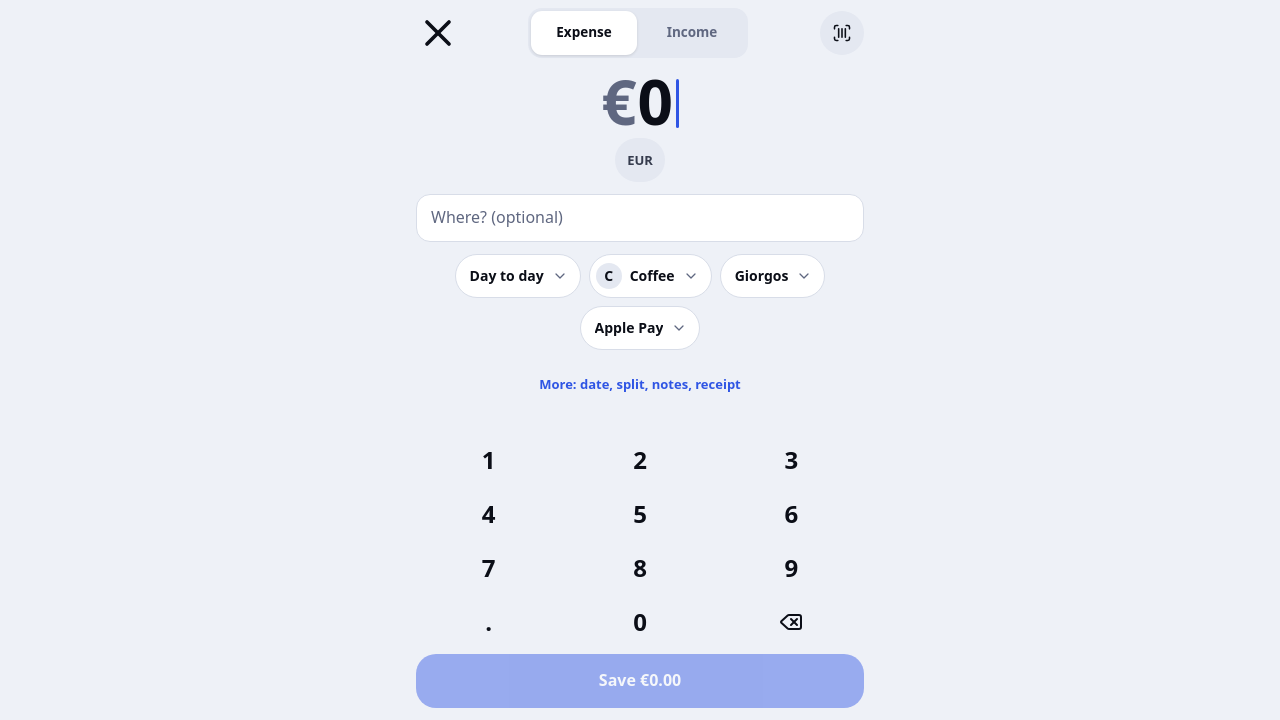
Test: one Scan button opens a sheet with Receipt QR and Pantry barcode; the old chips are gone
This screenshot has width=1280, height=720.
Expected: the button "Scan receipt" is not shown
Click the button named "Scan" at (842, 33), box [820,11,864,55]
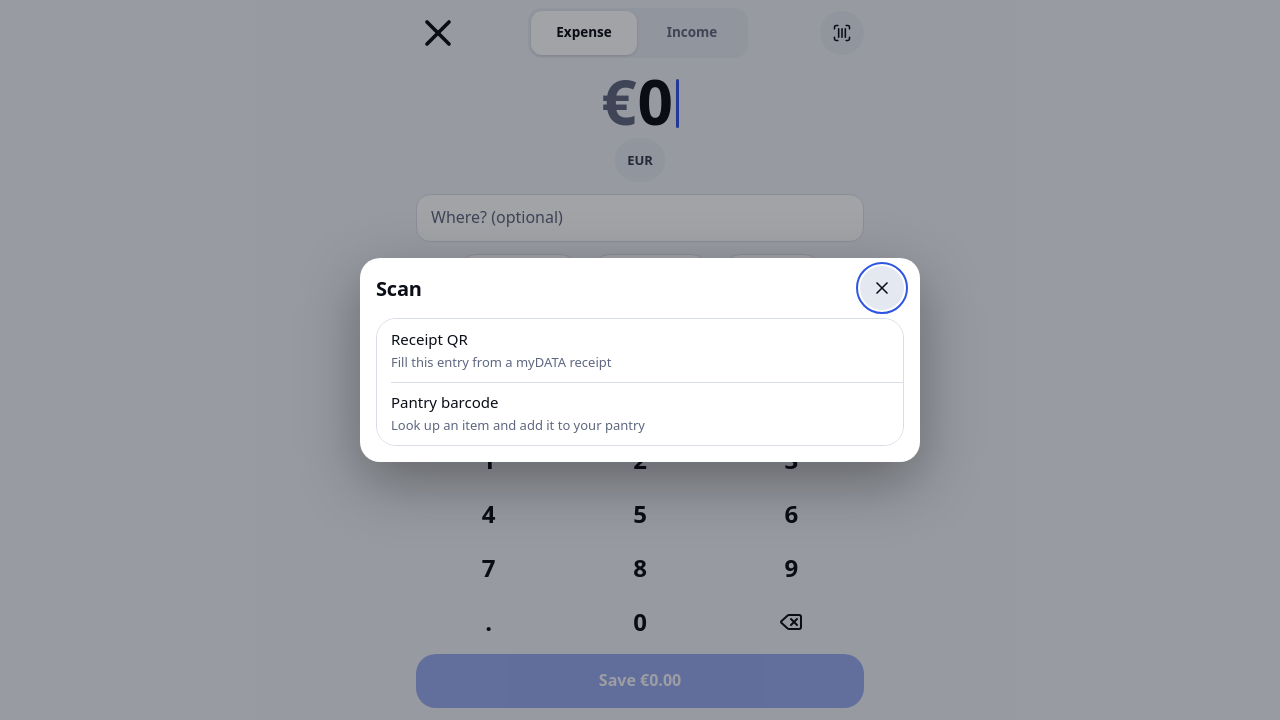
Expected: the button "Receipt QR Fill this entry from a myDATA receipt" is shown, [377,319,903,382]
Expected: the button "Pantry barcode Look up an item and add it to your pantry" is shown, [377,382,903,445]
